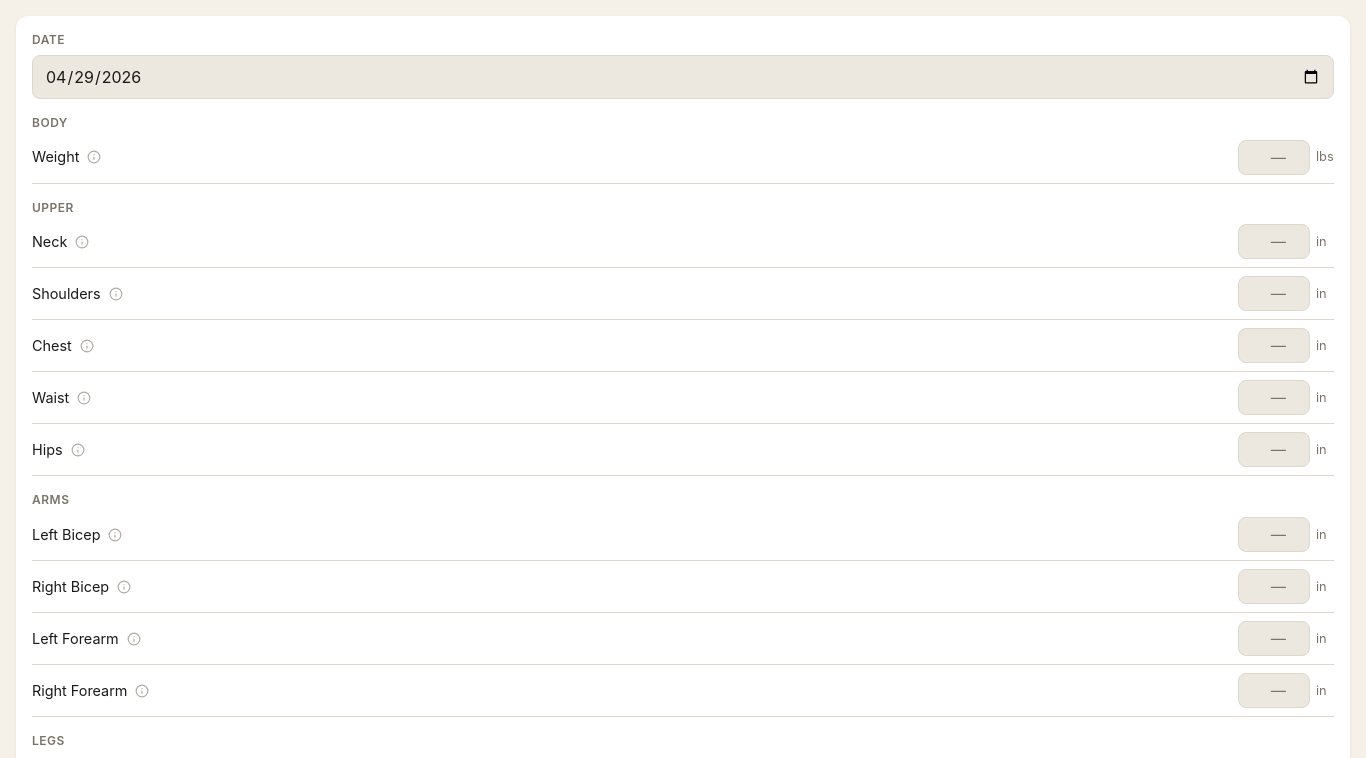
Test case: MeasurementsView › toggles measurement hint when info button is clicked
The width and height of the screenshot is (1366, 758).
Step 1. Click the button named "Measurement guide for" → coordinates (94, 157), box [85,148,103,166]
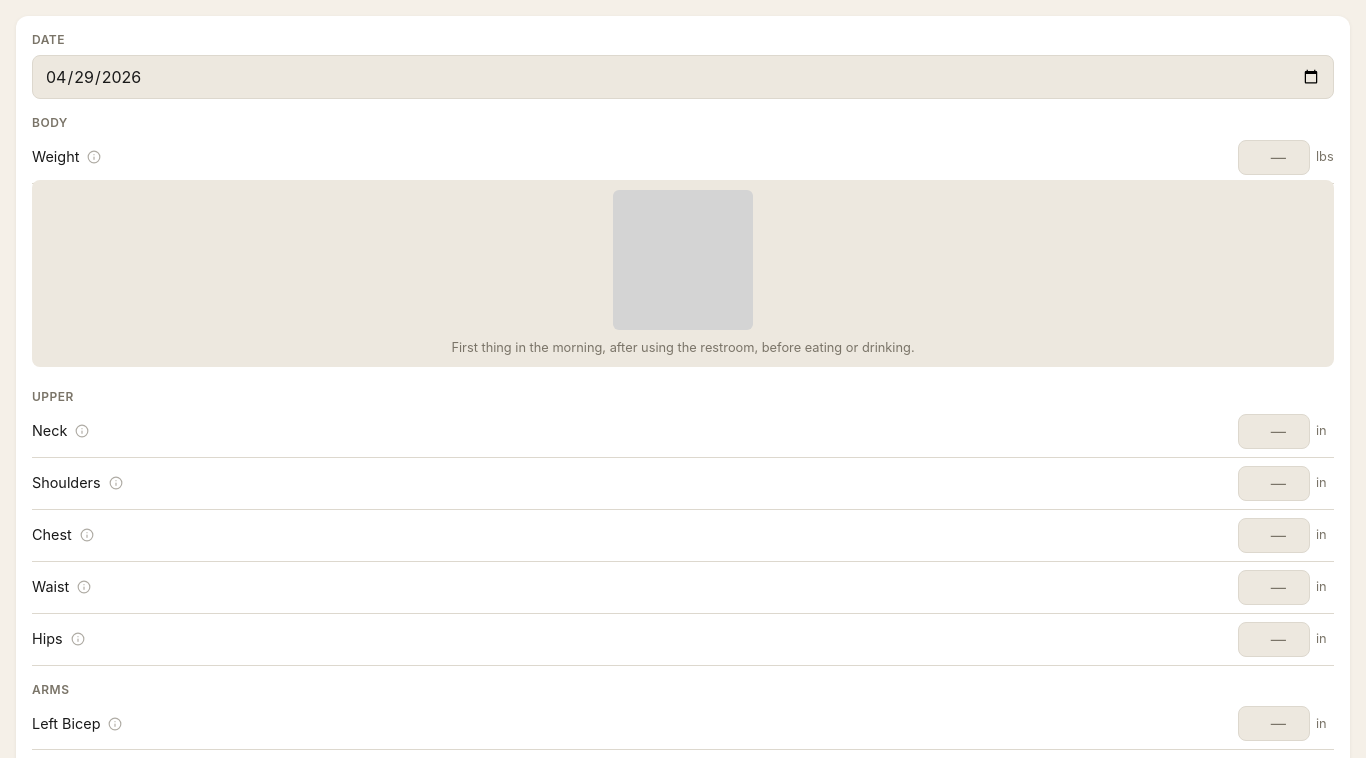
Expected: the element with class "measurement-hint" is shown, [32,180,1334,367]
